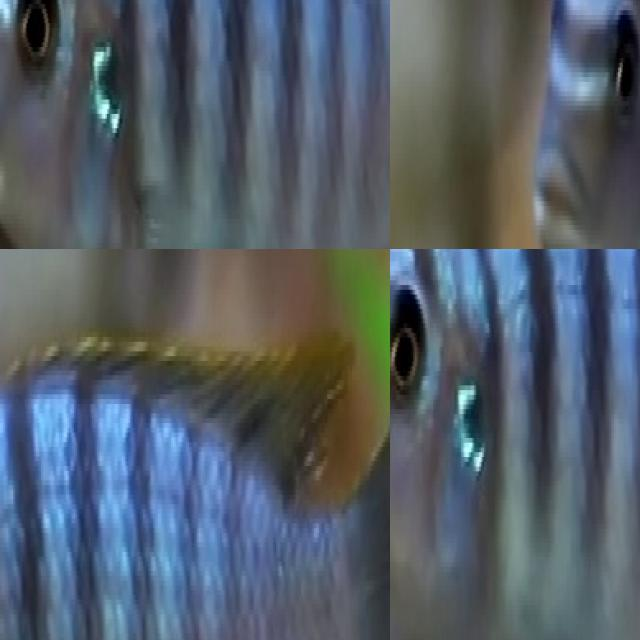fish: (390, 249, 640, 640), (0, 0, 390, 249)
